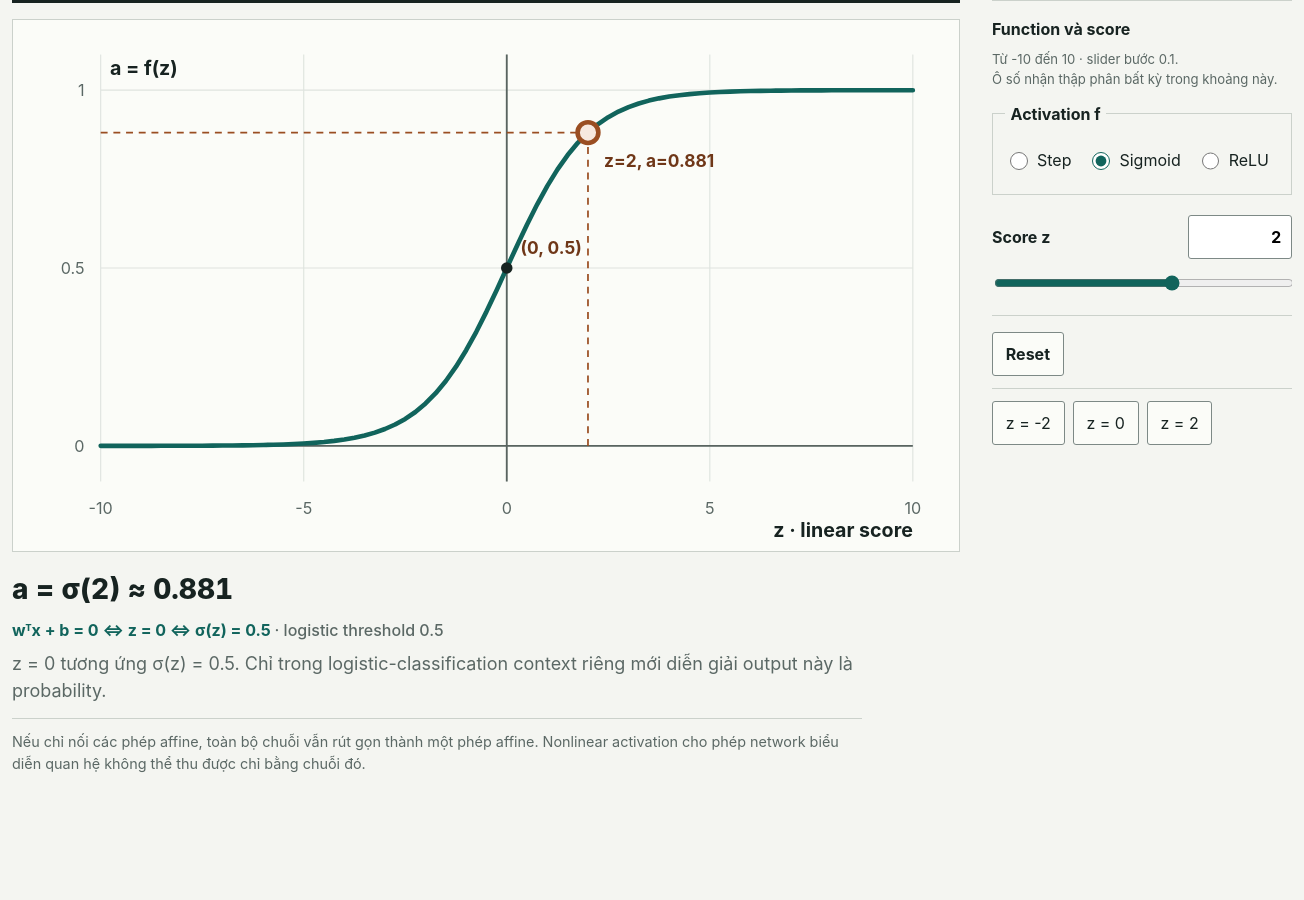
Activation Function › keeps z while switching functions and reports the correct output
Check: the text "a = σ(2) ≈ 0.881" is shown, box [12,572,233,606]
Click the radio button labelled "ReLU" at {"x": 1210, "y": 161}, box [1202,152,1219,170]
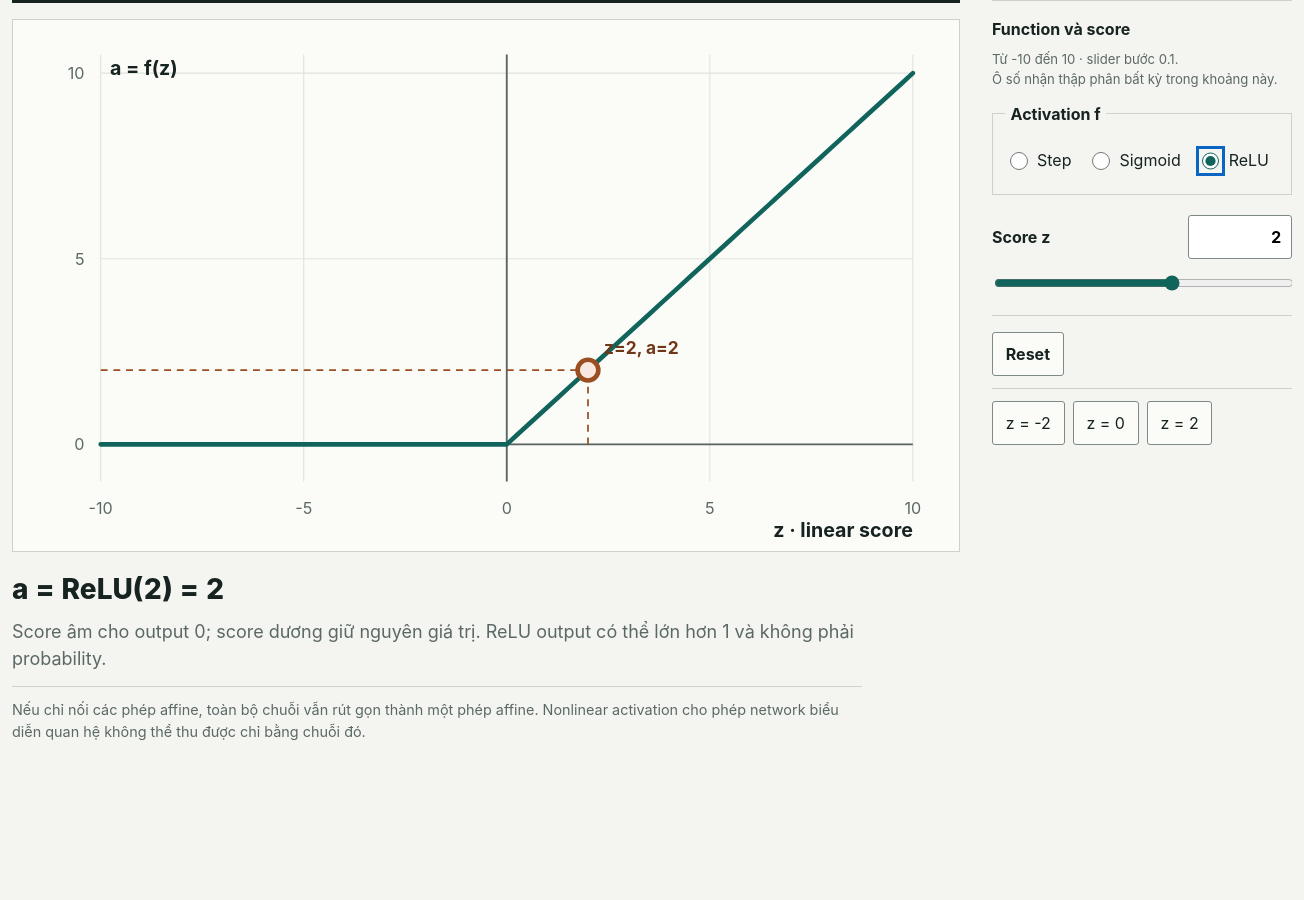
Check: the field labelled "Score z" holds "2", box [1188,215,1292,259]
Check: the text "a = ReLU(2) = 2" is shown, box [12,572,224,606]
Click the button "z = 0" at {"x": 1106, "y": 423}, box [1073,401,1139,445]
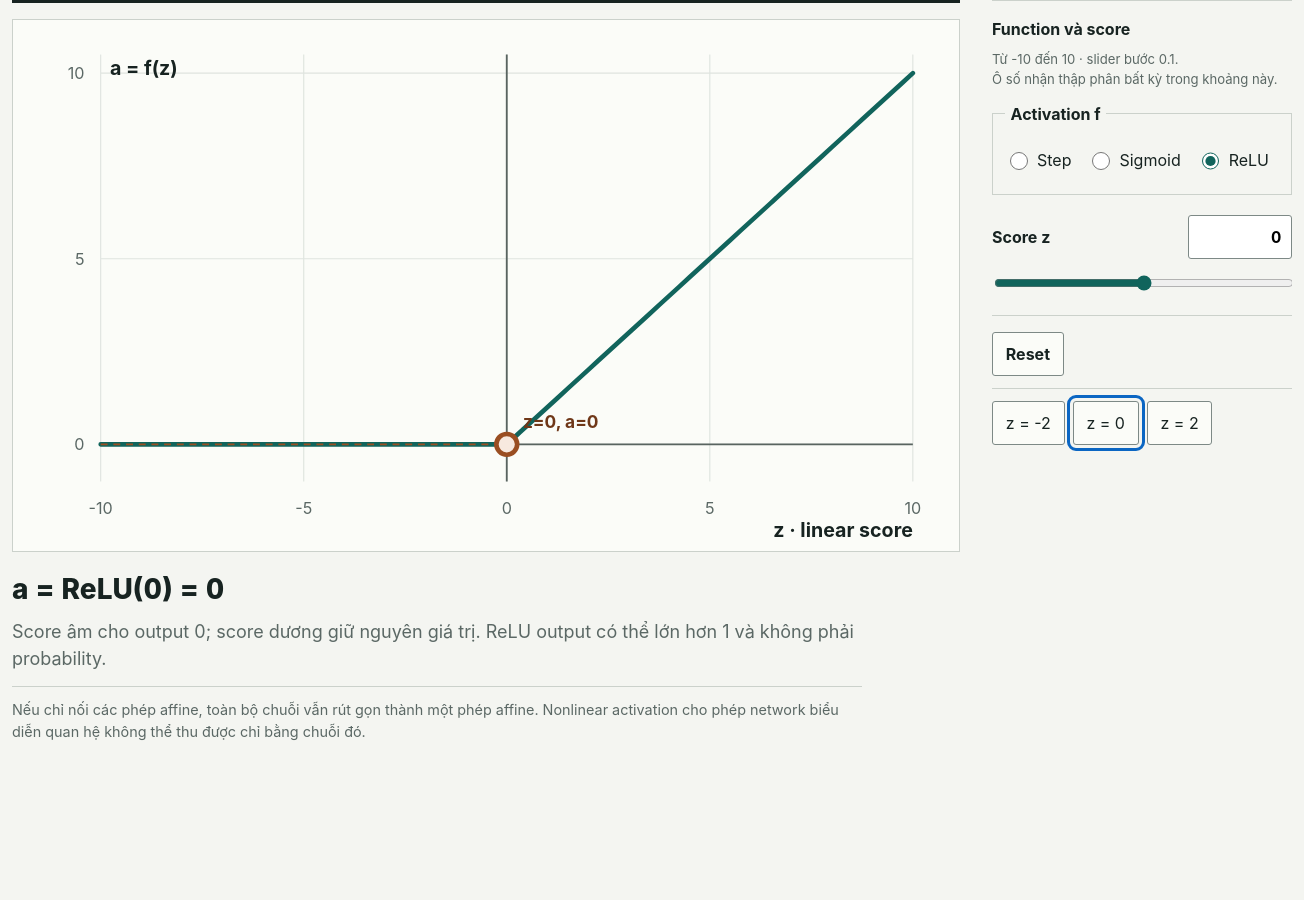
Click the radio button labelled "Step" at {"x": 1019, "y": 161}, box [1010,152,1028,170]
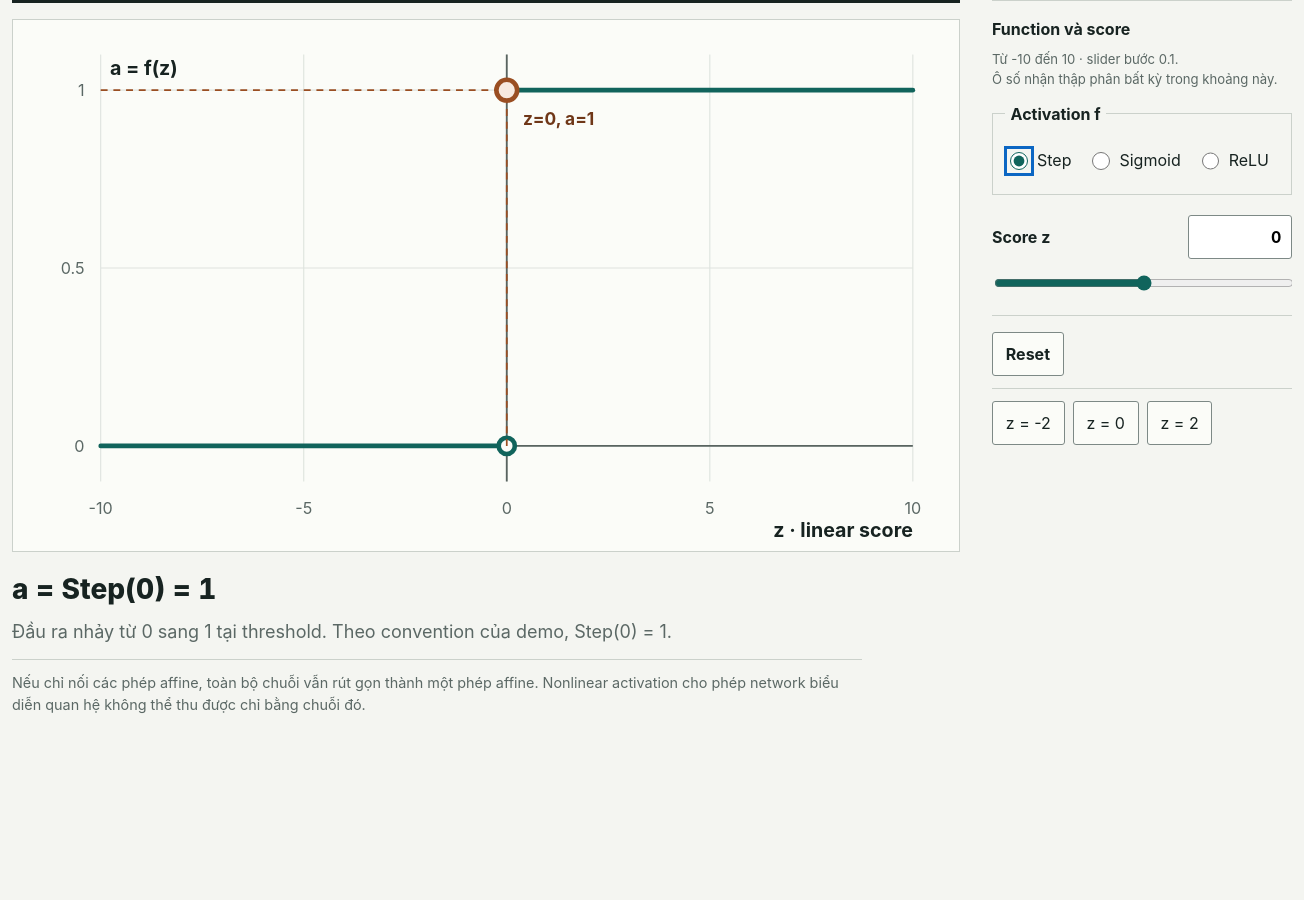
Check: the text "a = Step(0) = 1" is shown, box [12,572,216,606]
Click the radio button labelled "Sigmoid" at {"x": 1101, "y": 161}, box [1092,152,1110,170]
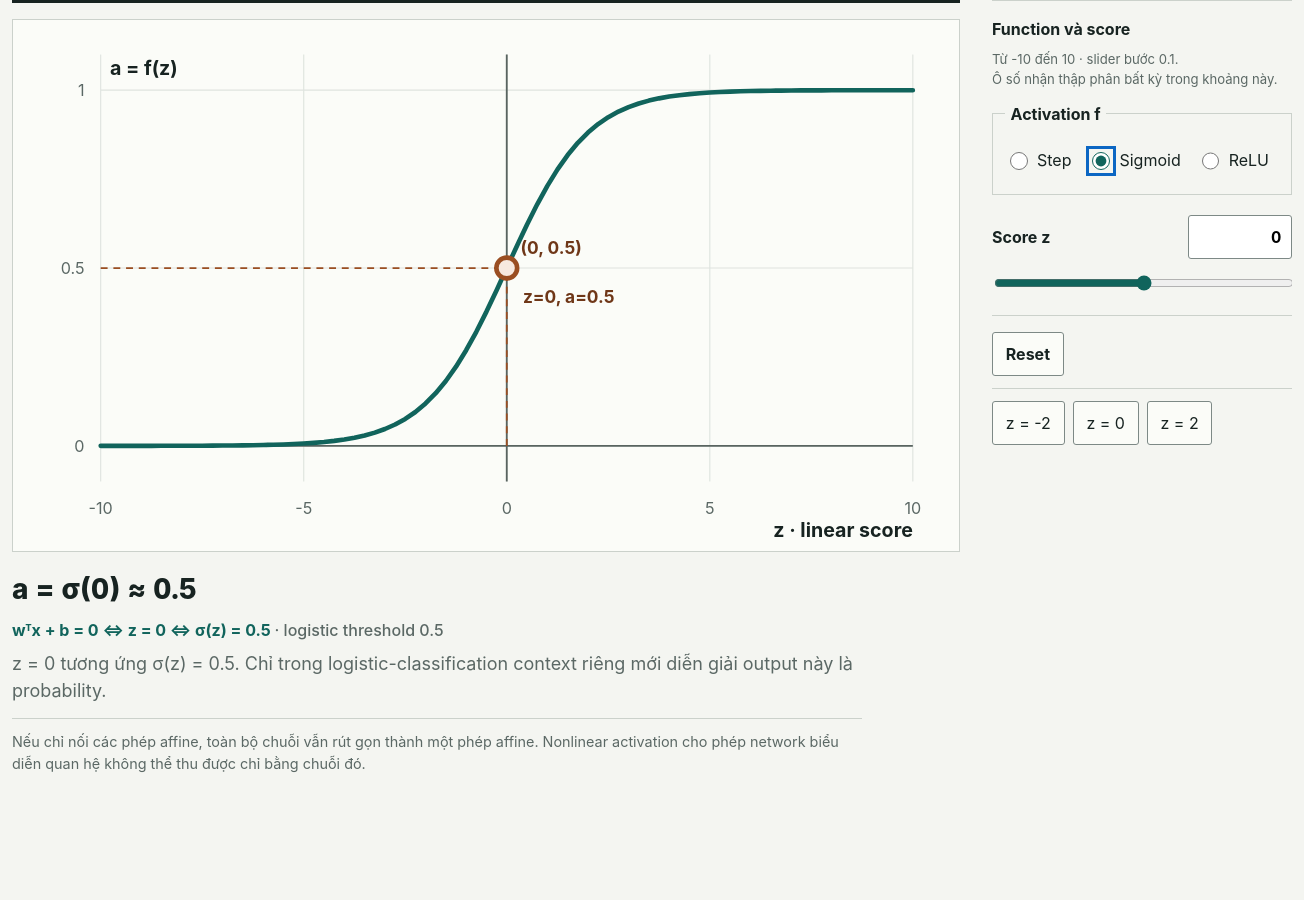
Check: the text "a = σ(0) ≈ 0.5" is shown, box [12,572,197,606]
